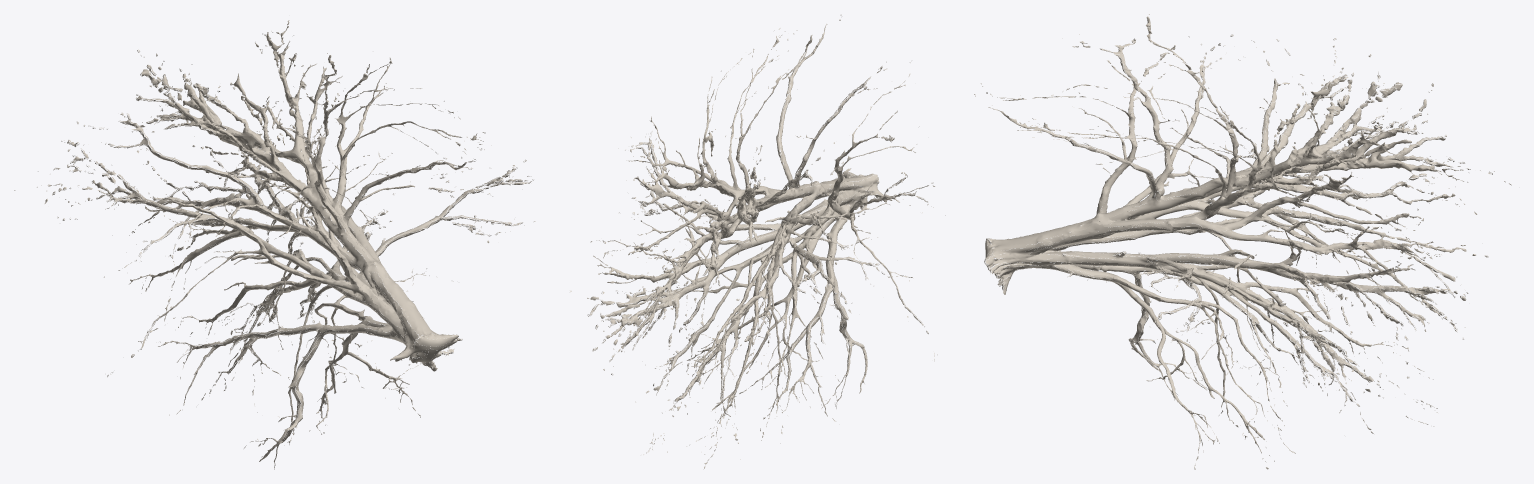
File: tree_1_cand01.glb
3 renders of one model, left to right at view 1: azimuth 30°, elevation 25°; view 2: azimuth 150°, elevation 25°; view 3: azimuth 270°, elevation 25°, orthographic. The views are drawn at different scales.
Visible parts, largest first — view 1: world; view 2: world; view 3: world.
Boxes of the visible parts, x1,y1,x2,y2 form: world: [14, 20, 535, 469]; world: [570, 14, 945, 468]; world: [974, 14, 1511, 469].
Size of the model in its own units: 1.8 by 1.81 by 2.09.
